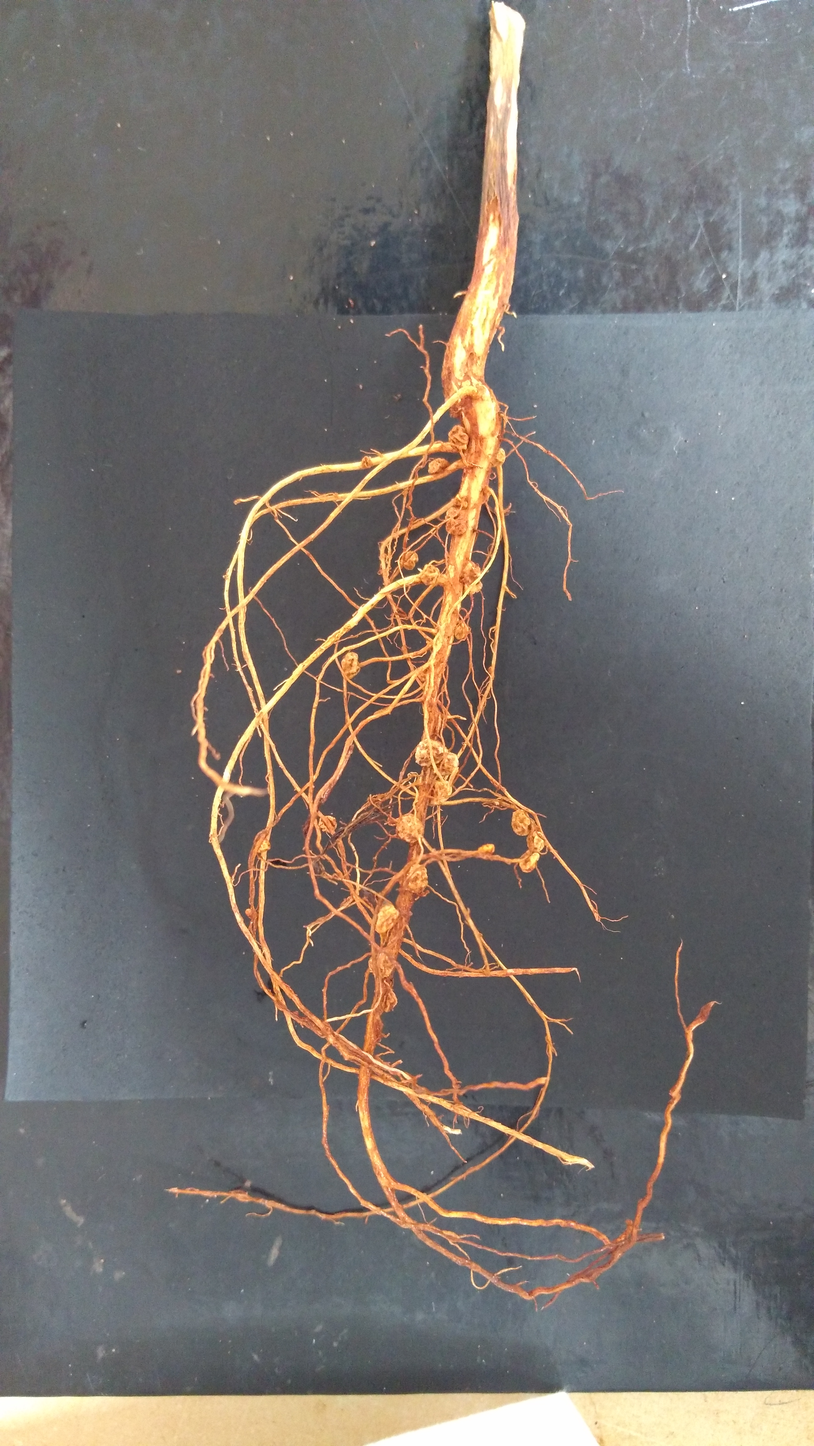nodule: (399, 861, 430, 895), (394, 812, 426, 844), (414, 738, 449, 767), (459, 559, 484, 596), (373, 901, 400, 933), (367, 950, 394, 979), (426, 779, 453, 808), (432, 750, 459, 777), (510, 808, 533, 838), (447, 424, 470, 452), (341, 651, 362, 680), (517, 850, 540, 873), (445, 513, 468, 536), (419, 563, 441, 585), (252, 829, 272, 853), (381, 988, 399, 1014), (526, 830, 546, 853), (426, 457, 451, 475), (317, 815, 338, 833), (402, 550, 420, 571), (454, 619, 470, 641), (414, 664, 432, 682), (311, 858, 325, 880), (492, 447, 506, 468), (444, 505, 462, 521), (477, 843, 495, 858), (453, 496, 469, 512), (244, 907, 260, 922), (482, 483, 493, 502), (360, 455, 373, 469), (386, 815, 399, 826), (487, 665, 494, 675), (391, 532, 398, 539), (402, 489, 409, 496), (371, 856, 378, 863), (221, 574, 228, 580), (425, 640, 432, 645)
